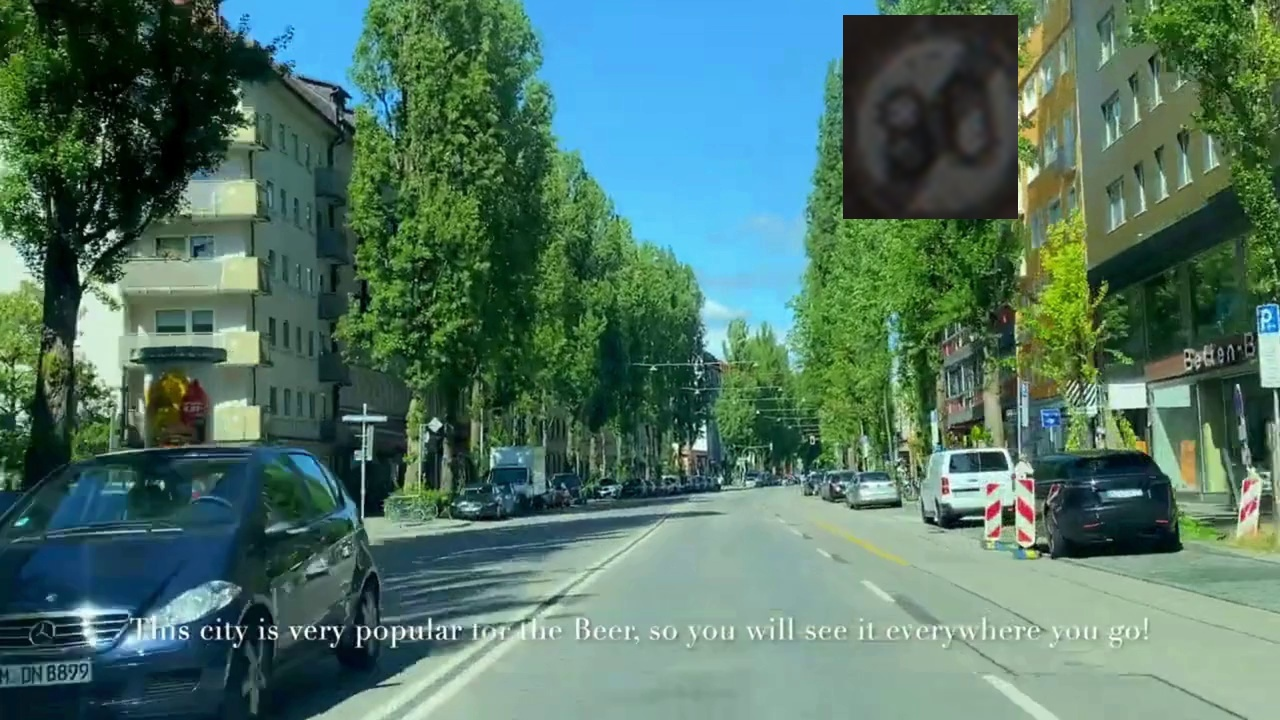End Speed 80: (843, 15, 1018, 219)
